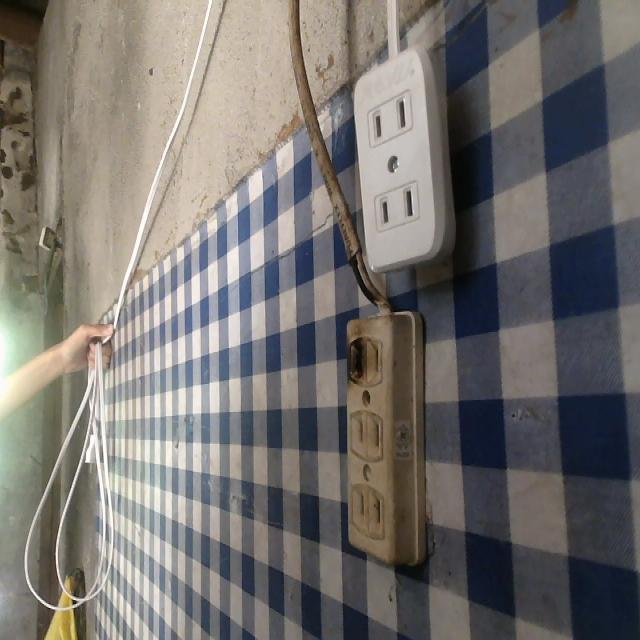-: (340, 335, 371, 384)
